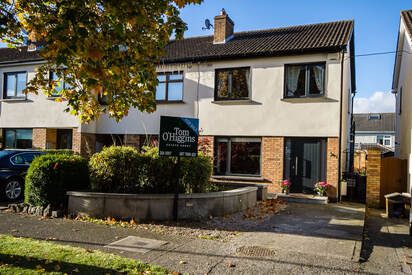property sign: (156, 112, 202, 162)
